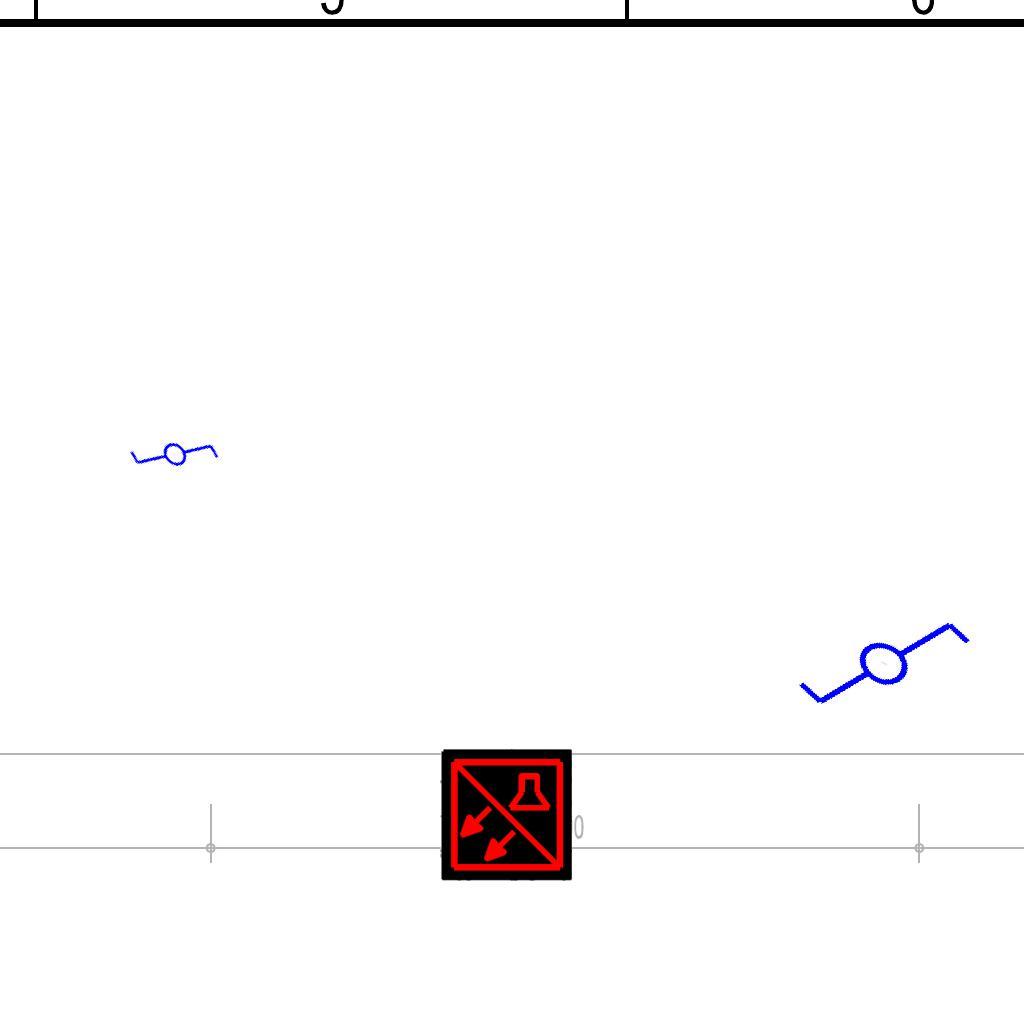OKW_Multisensormelder_(Kombination_optischer_Rauch-Kahlenmonoxid_Waerme-Melder): (440, 749, 572, 881)
Wechselschalter: (774, 558, 981, 758), (123, 404, 231, 512)
